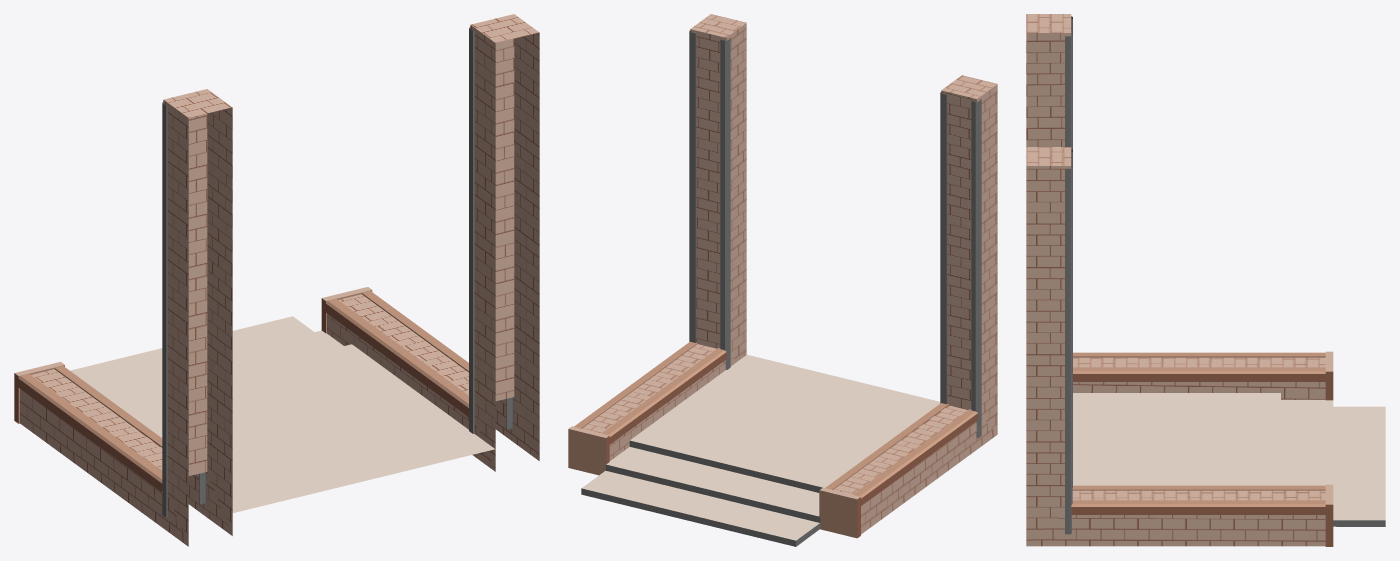
Rendered from throneFloor.fbx.
The picture shows the model from 3 angles, left to right: view 1: azimuth 30°, elevation 25°; view 2: azimuth 150°, elevation 25°; view 3: azimuth 270°, elevation 25°; orthographic projection. The views are drawn at different scales.
Parts seen in each view (by area): view 1: throneFloor; view 2: throneFloor; view 3: throneFloor.
Part boxes in pixels (left/top/right/bottom): throneFloor: left=14, top=14, right=539, bottom=546; throneFloor: left=568, top=14, right=997, bottom=546; throneFloor: left=1026, top=14, right=1385, bottom=546.
Size of the model in its own units: 484 by 561 by 480.
5 materials, 3 textured.
